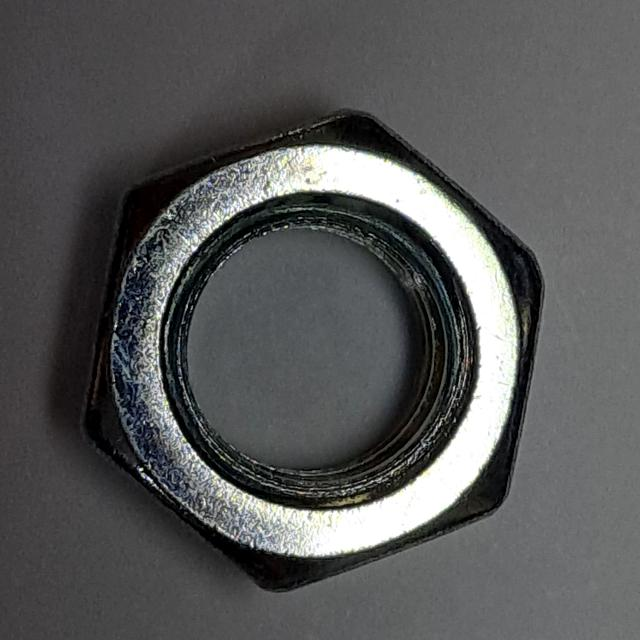Excellent: (62, 100, 557, 610)
